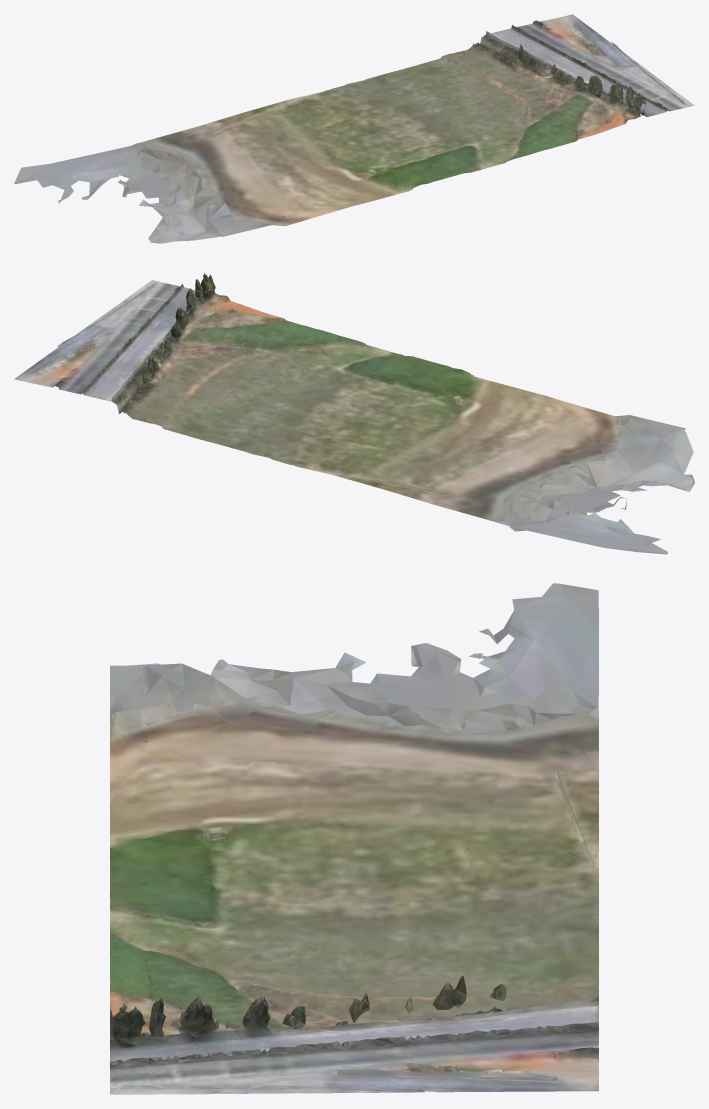
The model's file is BlockYXYB.glb.
3 views of the same model, one above another, from view 1: azimuth 30°, elevation 25°; view 2: azimuth 150°, elevation 25°; view 3: azimuth 270°, elevation 25° (orthographic). The views are drawn at different scales.
Parts seen in each view (by area): view 1: rtc; view 2: rtc; view 3: rtc.
Part boxes in pixels (bbox=[...]): rtc: bbox=[14, 14, 694, 243]; rtc: bbox=[14, 273, 694, 554]; rtc: bbox=[110, 583, 598, 1094].
Size of the model in its own units: 321 by 32.74 by 120.
3 materials, 3 textured.
